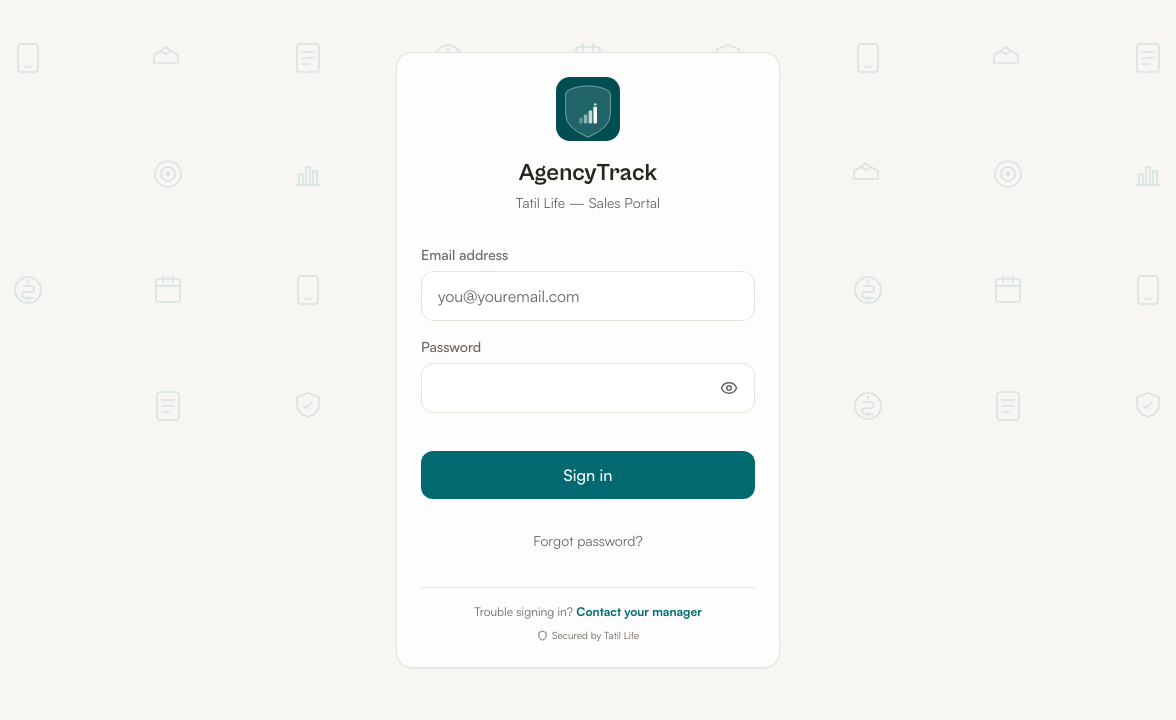
it: LoginScreen v2 — carded error › keeps the existing error MESSAGE for the empty-email forgot-password guard, now in the carded grammar
Click the button "Forgot password?": (588, 541) left=533, top=519, right=643, bottom=563
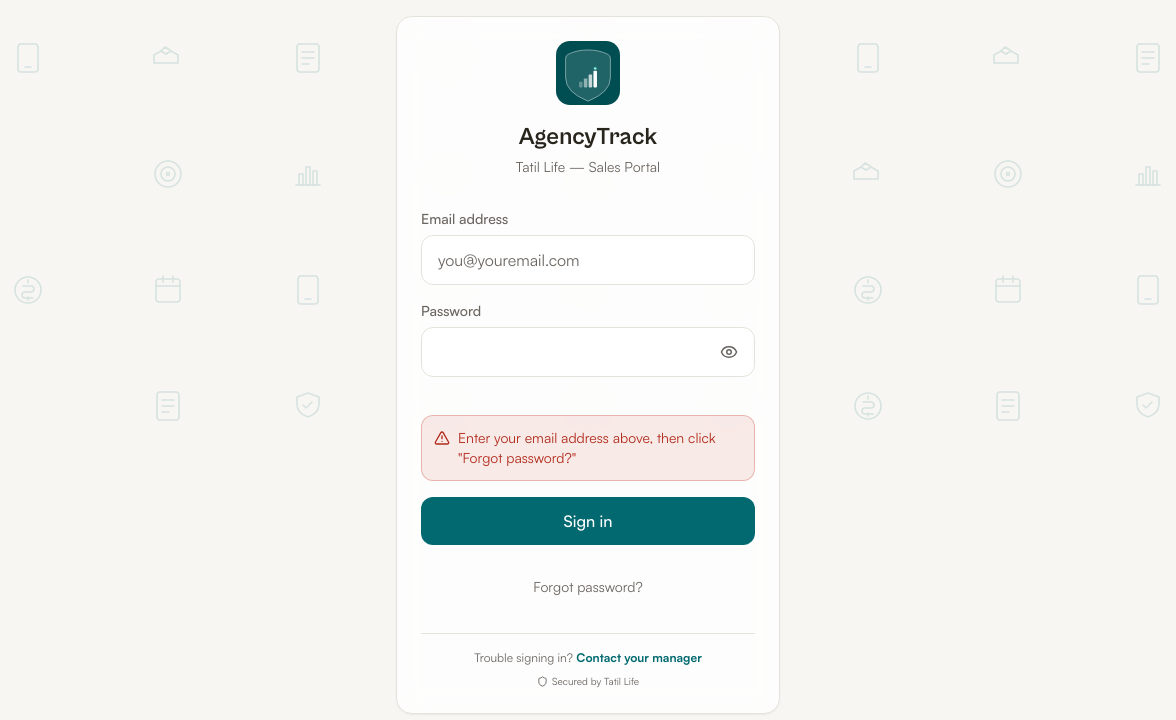
Expected: the message with test id "login-error-card" shows "Enter your email", left=458, top=429, right=716, bottom=466
